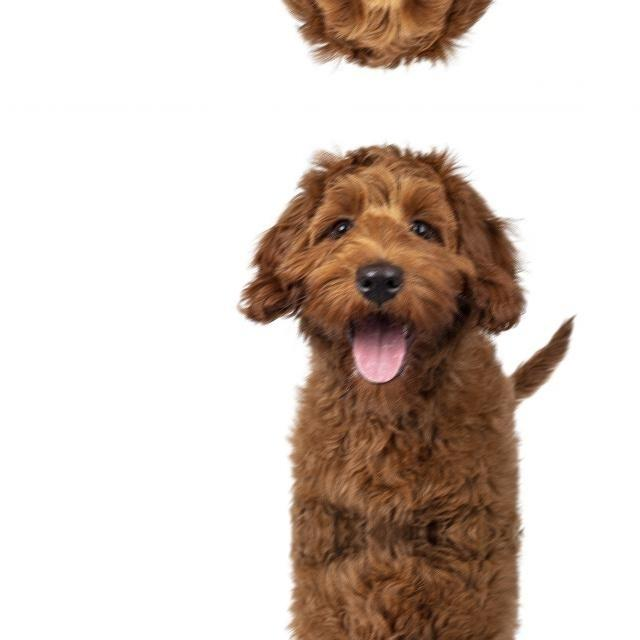dog: (240, 134, 542, 390), (240, 0, 542, 77)
